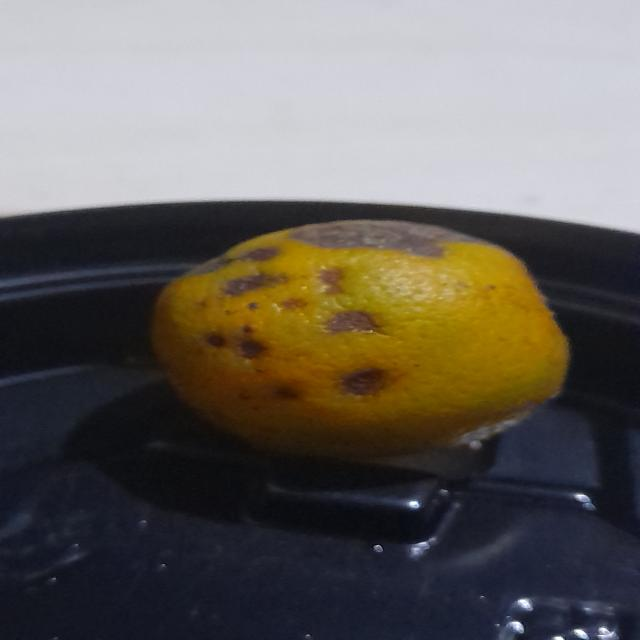black spot: (143, 212, 588, 480)
